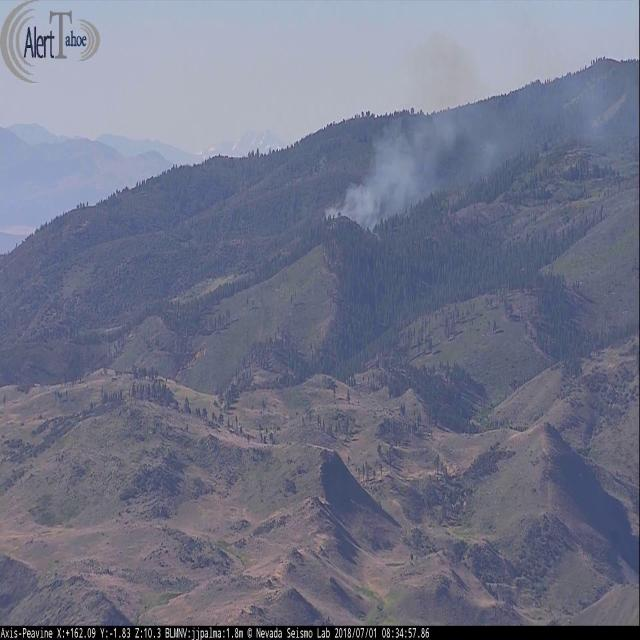smoke: (326, 24, 640, 233)
